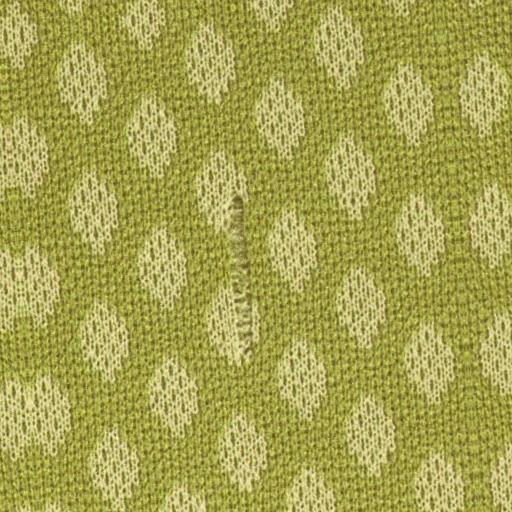slub: (221, 190, 264, 365)
